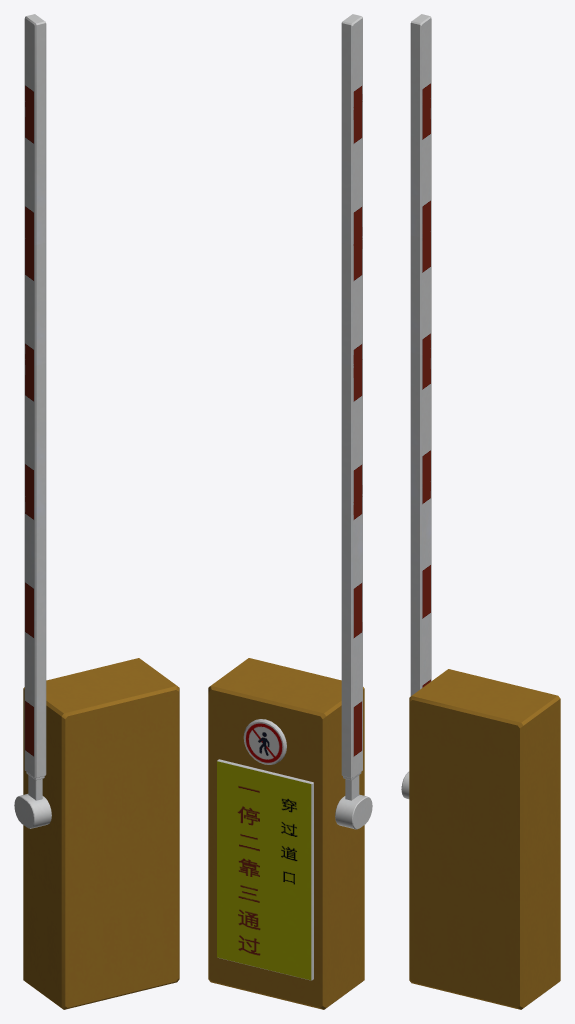
The model's file is sm_tingchegan.fbx.
The picture shows the model from 3 angles, left to right: view 1: azimuth 30°, elevation 25°; view 2: azimuth 150°, elevation 25°; view 3: azimuth 330°, elevation 25°; orthographic projection. The views are drawn at different scales.
Parts seen in each view (by area): view 1: sm_tingchegan; view 2: sm_tingchegan; view 3: sm_tingchegan.
Boxes of the visible parts, left/top/right/bottom form: sm_tingchegan: left=14, top=14, right=179, bottom=1009; sm_tingchegan: left=208, top=14, right=372, bottom=1009; sm_tingchegan: left=401, top=14, right=560, bottom=1009.
Size of the model in its own units: 0.5749 by 3.96 by 0.3156.
